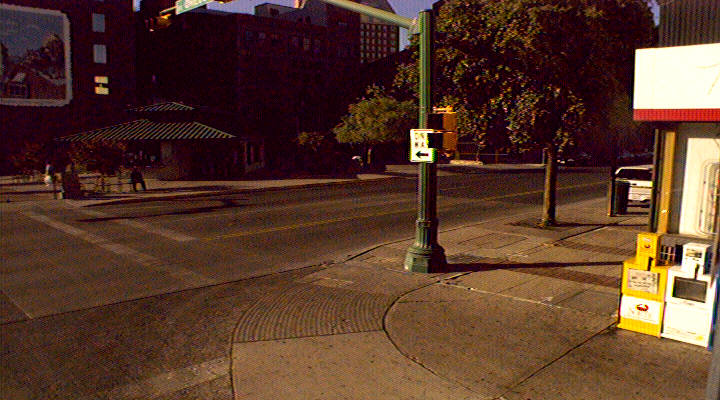Ramp: (204, 258, 447, 392)
